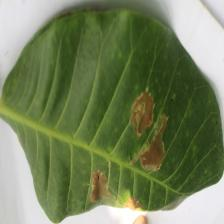leaf miner: (122, 81, 176, 175), (85, 165, 146, 214)
